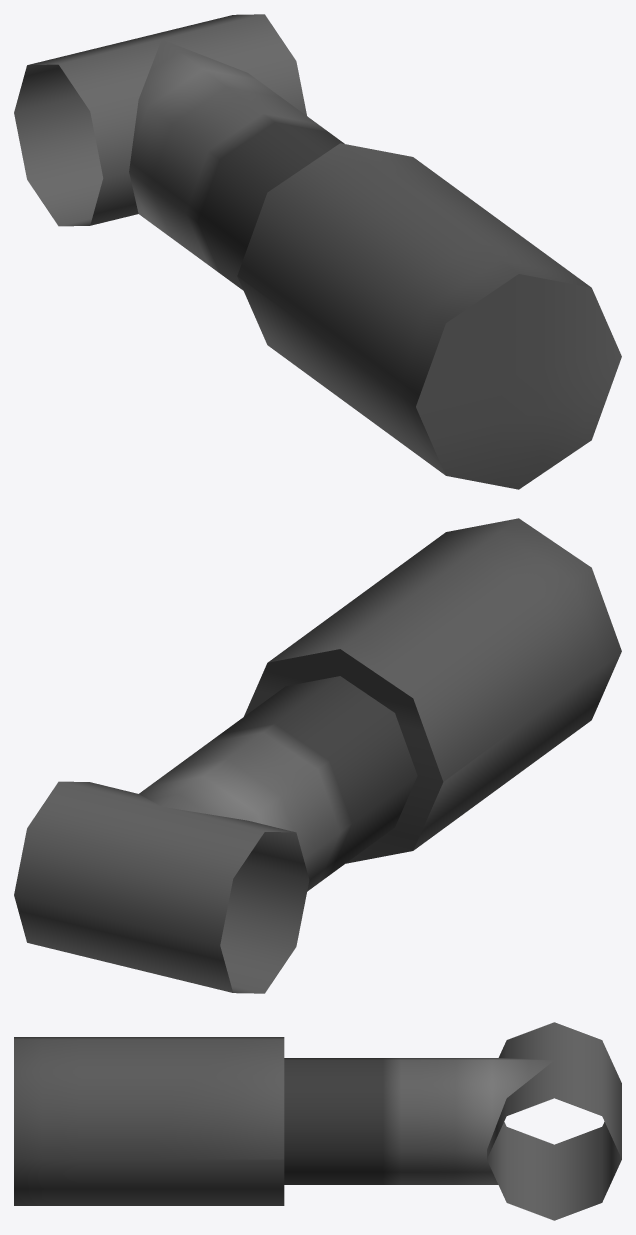
Rendered from libra_rcs_srf_2_base.obj.
3 views of the same model, one above another, from view 1: azimuth 30°, elevation 25°; view 2: azimuth 150°, elevation 25°; view 3: azimuth 270°, elevation 25° (orthographic). The views are drawn at different scales.
Visible parts, largest first — view 1: libra_rcs_srf_2; view 2: libra_rcs_srf_2; view 3: libra_rcs_srf_2.
Part boxes in pixels (bbox=[...]): libra_rcs_srf_2: bbox=[14, 14, 621, 489]; libra_rcs_srf_2: bbox=[14, 518, 621, 993]; libra_rcs_srf_2: bbox=[14, 1022, 621, 1220].
Size of the model in its own units: 0.05 by 0.05 by 0.1687.
